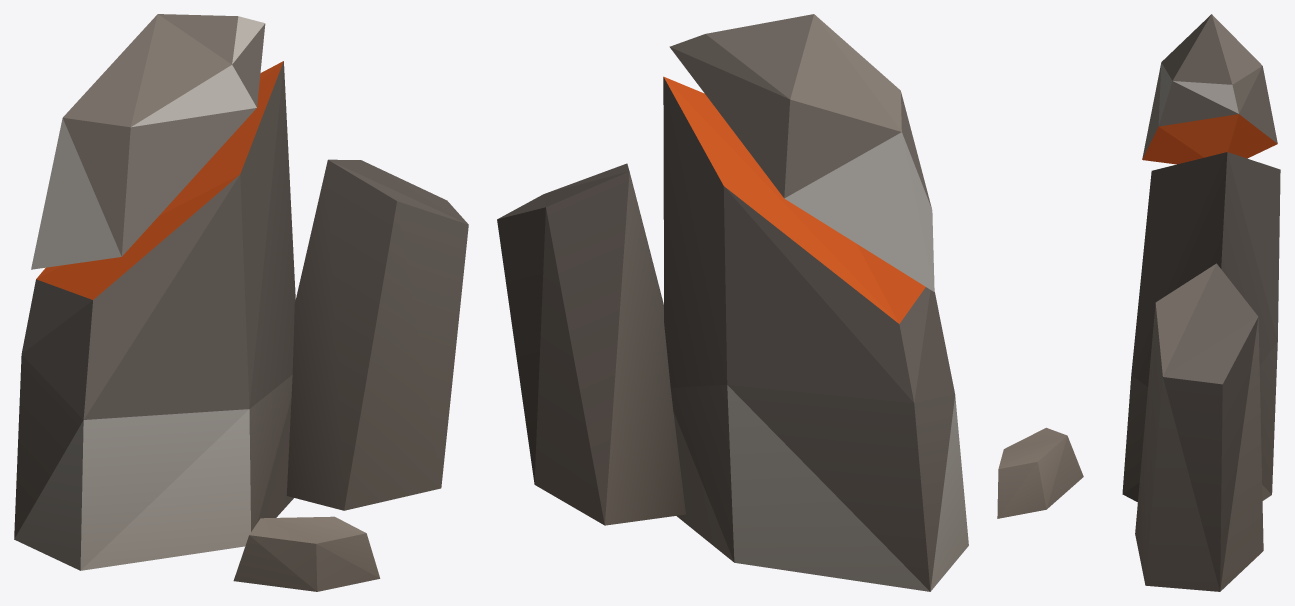
Rendered from abyss_monolith.glb.
The picture shows the model from 3 angles, left to right: view 1: azimuth 30°, elevation 25°; view 2: azimuth 150°, elevation 25°; view 3: azimuth 270°, elevation 25°; orthographic projection. The views are drawn at different scales.
Visible parts, largest first — view 1: ca_abyss_monolith; view 2: ca_abyss_monolith; view 3: ca_abyss_monolith.
Boxes of the visible parts, left/top/right/bottom form: ca_abyss_monolith: left=14, top=14, right=468, bottom=591; ca_abyss_monolith: left=497, top=14, right=968, bottom=591; ca_abyss_monolith: left=997, top=14, right=1280, bottom=591.
Bounding box in the file's own units: 0.8671 × 0.9959 × 0.5531.
1 material, 1 textured.
